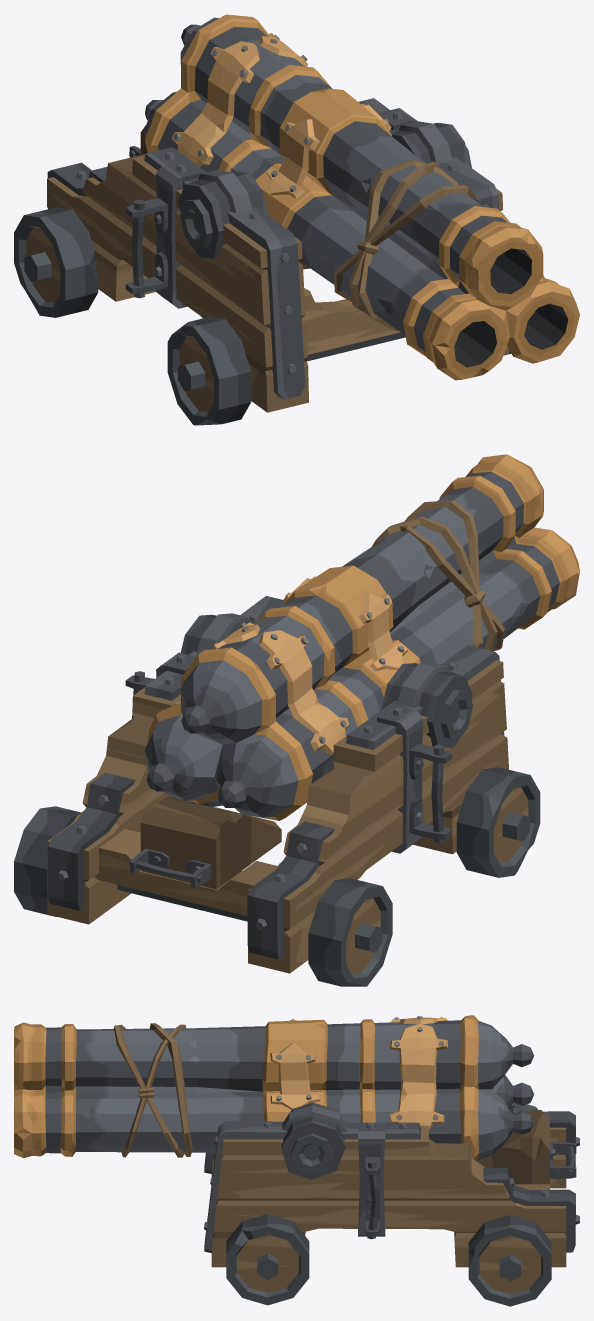
File: SM_Wep_Cannon_04.fbx
The picture shows the model from 3 angles, top to bottom: view 1: azimuth 30°, elevation 25°; view 2: azimuth 150°, elevation 25°; view 3: azimuth 270°, elevation 25°; orthographic projection. The views are drawn at different scales.
Parts seen in each view (by area): view 1: SM_Wep_Cannon_04, SM_Wep_Cannon_04_Wheel_F, SM_Wep_Cannon_04_Wheel_R; view 2: SM_Wep_Cannon_04, SM_Wep_Cannon_04_Wheel_R, SM_Wep_Cannon_04_Wheel_F; view 3: SM_Wep_Cannon_04, SM_Wep_Cannon_04_Wheel_R, SM_Wep_Cannon_04_Wheel_F.
Part boxes in pixels (x1,y1,x2,y2): SM_Wep_Cannon_04: (47,14,579,412); SM_Wep_Cannon_04_Wheel_F: (167,317,511,425); SM_Wep_Cannon_04_Wheel_R: (14,207,98,317); SM_Wep_Cannon_04: (47,454,579,973); SM_Wep_Cannon_04_Wheel_R: (14,806,392,986); SM_Wep_Cannon_04_Wheel_F: (191,767,540,877); SM_Wep_Cannon_04: (14,1015,579,1267); SM_Wep_Cannon_04_Wheel_R: (468,1103,551,1306); SM_Wep_Cannon_04_Wheel_F: (226,1214,309,1305).
Size of the model in its own units: 137 by 106 by 242.
